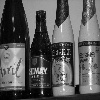beer: (30, 7, 54, 100)
